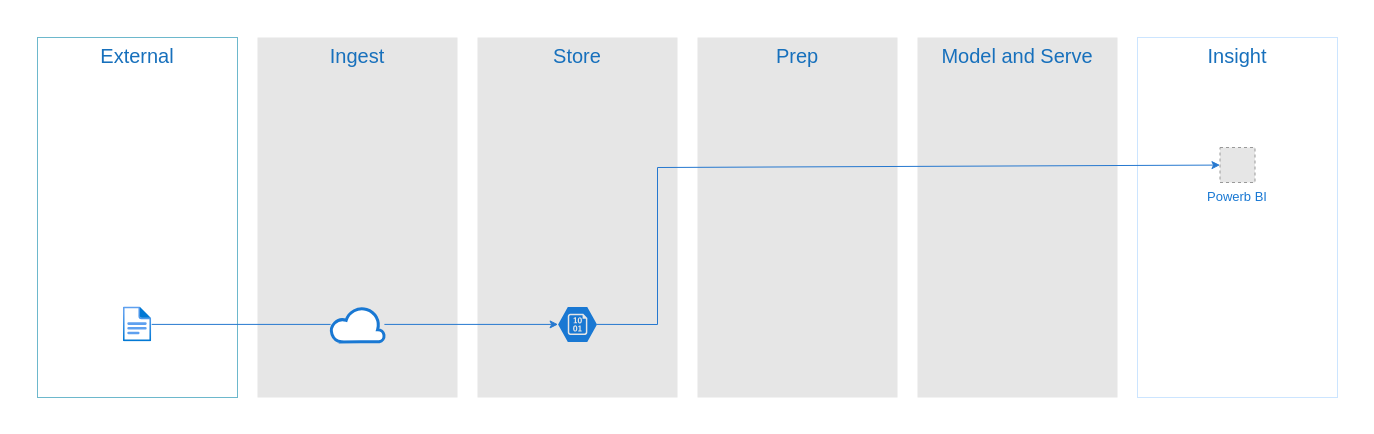
This 1374x434 diagram has some shape labels left out. Grey dashed boxes stand in for pictures. The centre of each missing label's shape, as x and y in pixels:
"Billing Export" goes at (x=357, y=324).
"Billing Report" goes at (x=137, y=323).
"Storage blob" goes at (x=577, y=323).
